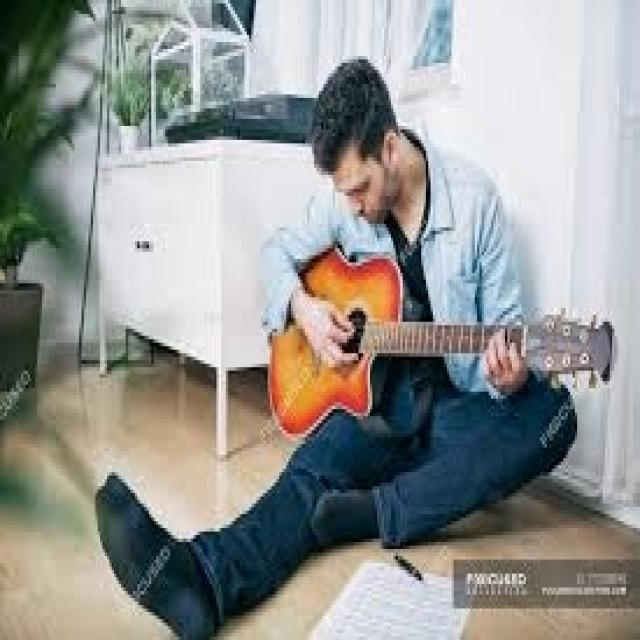sitting: (109, 68, 631, 624)
